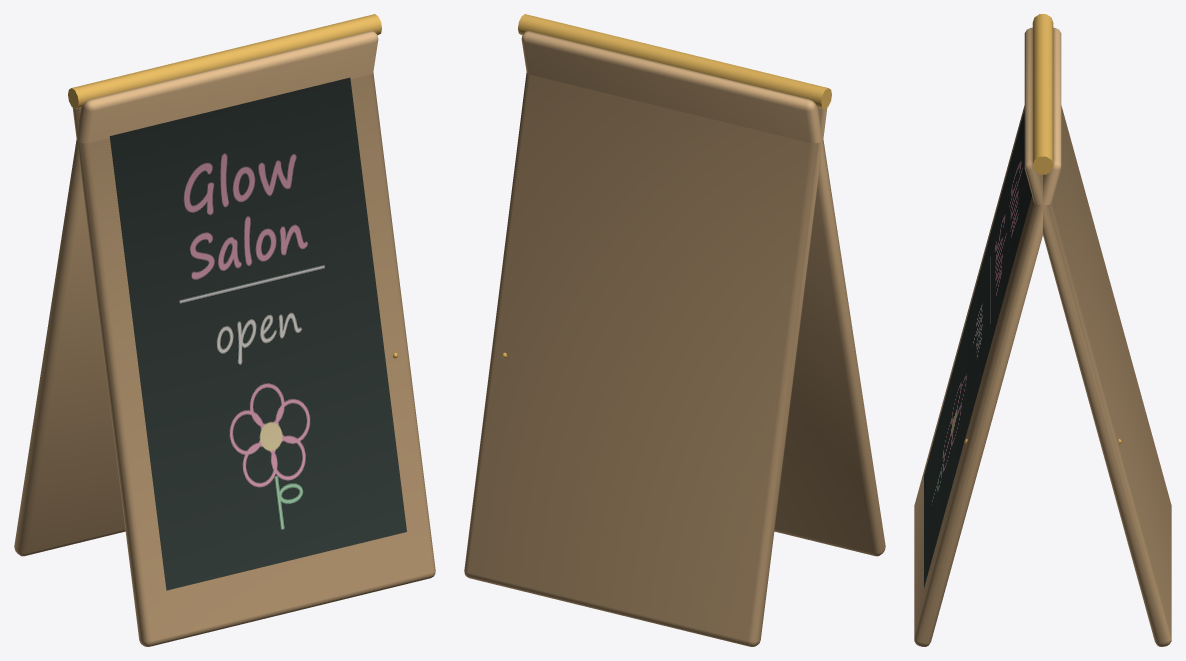
The model's file is a-frame-sign-wood.glb.
3 views of the same model, side by side, from view 1: azimuth 30°, elevation 25°; view 2: azimuth 150°, elevation 25°; view 3: azimuth 270°, elevation 25° (orthographic). The views are drawn at different scales.
Parts seen in each view (by area): view 1: a-frame-sign-wood; view 2: a-frame-sign-wood; view 3: a-frame-sign-wood.
Boxes of the visible parts, left/top/right/bottom form: a-frame-sign-wood: left=14, top=14, right=435, bottom=646; a-frame-sign-wood: left=464, top=14, right=885, bottom=646; a-frame-sign-wood: left=914, top=14, right=1171, bottom=646.
Size of the model in its own units: 0.58 by 0.9396 by 0.4429.
3 materials, 1 textured.
